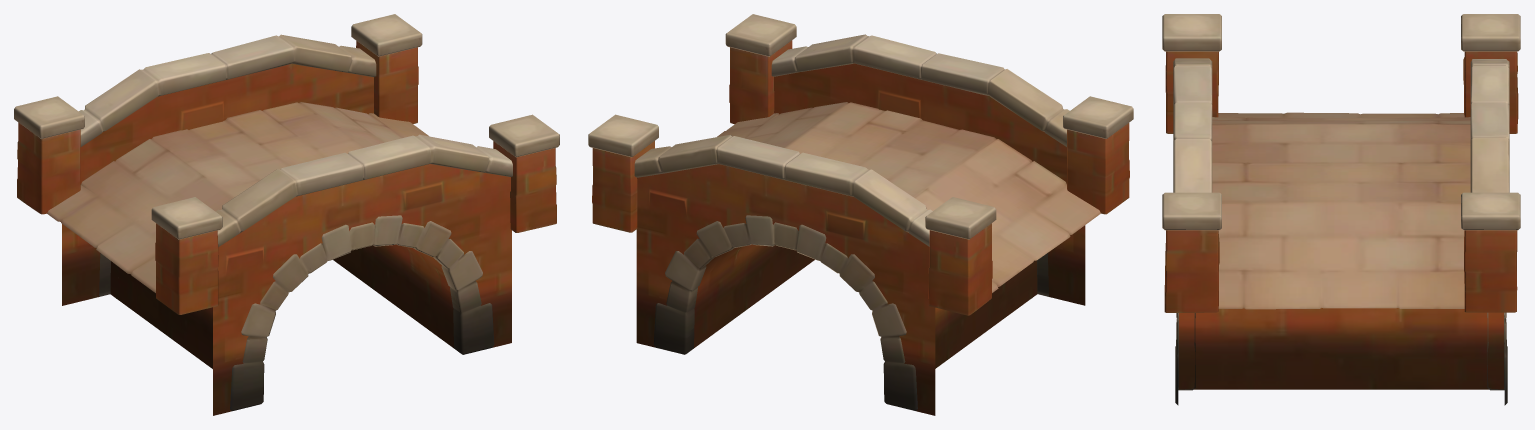
Rendered from bridge-brick.glb.
The picture shows the model from 3 angles, left to right: view 1: azimuth 30°, elevation 25°; view 2: azimuth 150°, elevation 25°; view 3: azimuth 270°, elevation 25°; orthographic projection. The views are drawn at different scales.
Size of the model in its own units: 39.4 by 21.38 by 29.4.
1 material, 1 textured.
